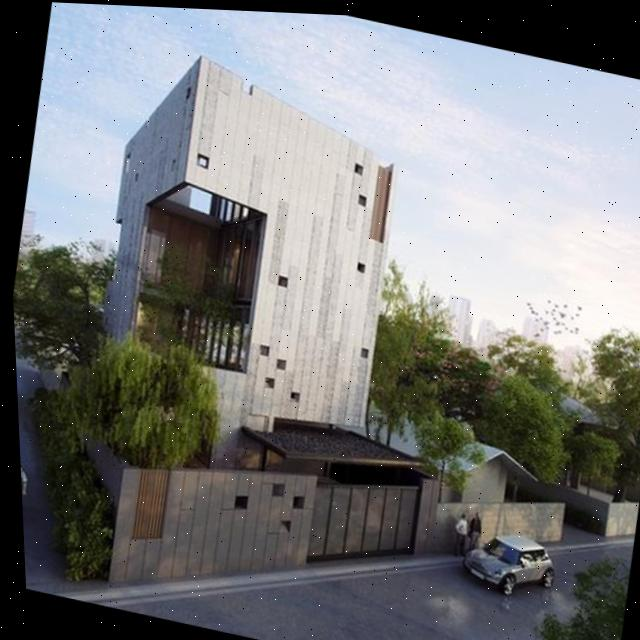building: (68, 37, 427, 492)
